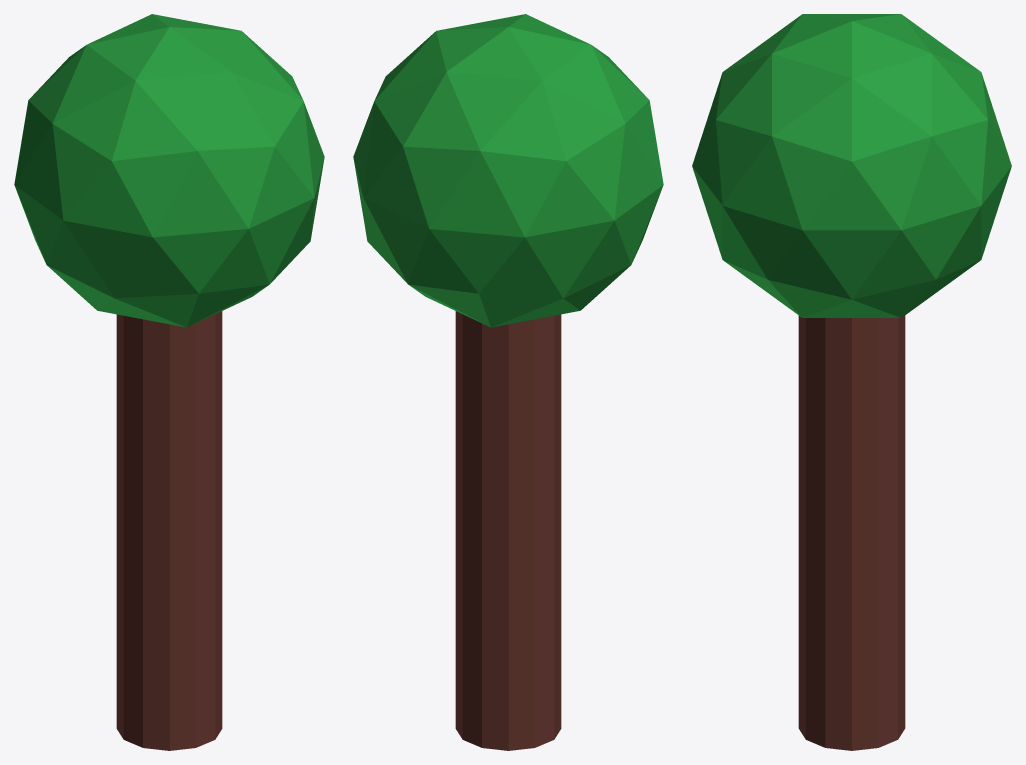
File: Simple Tree.fbx
The picture shows the model from 3 angles, left to right: view 1: azimuth 30°, elevation 25°; view 2: azimuth 150°, elevation 25°; view 3: azimuth 270°, elevation 25°; orthographic projection.
Visible parts, largest first — view 1: Tree; view 2: Tree; view 3: Tree.
Part boxes in pixels (x1,y1,x2,y2): Tree: (14, 14, 324, 750); Tree: (353, 14, 663, 750); Tree: (692, 14, 1011, 750).
Bounding box in the file's own units: 2.85 × 7.32 × 3.
